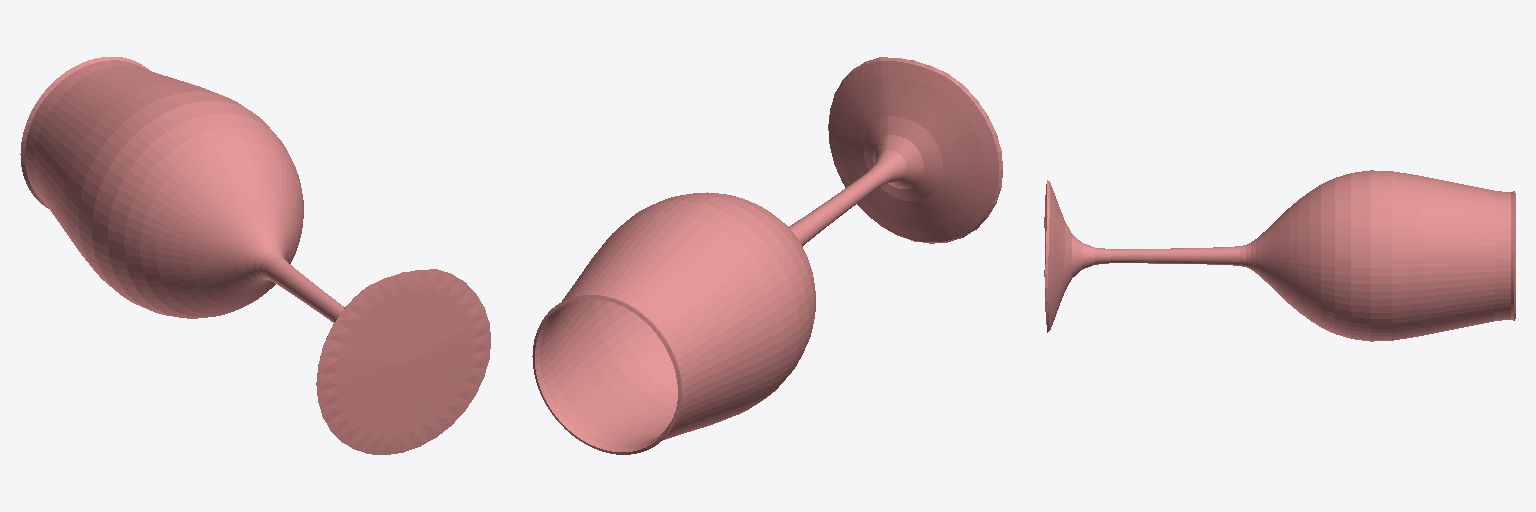
robot.urdf — model.urdf:
<?xml version="0.0" ?>
<robot name="model.urdf">
  <link name="baseLink">
    <contact>
      <friction_anchor/>
      <lateral_friction value="0.3"/>
      <rolling_friction value="0.0"/>
      <contact_cfm value="0.0"/>
      <contact_erp value="1.0"/>
    </contact>
    <inertial>
       <origin rpy="0 0 0" xyz="0 0 0"/>
       <mass value="0.1"/>
       <inertia ixx="8e-05" ixy="0" ixz="0" iyy="0.0002" iyz="0" izz="0.0002"/>
    </inertial>
    <visual>
      <geometry>
        <mesh filename="textured.dae" scale="1 1 1"/>
      </geometry>
      <material name="red">
        <color rgba="0.9 0.6 0.6 1."/>
      </material>
    </visual>
    <collision>
      <geometry>
    	 	<mesh filename="textured.dae" scale="1 1 1"/>
      </geometry>
    </collision>
  </link>
</robot>

--- Render facts (derived) ---
The picture shows the robot from 3 angles, left to right: view 1: azimuth 30°, elevation 25°; view 2: azimuth 150°, elevation 25°; view 3: azimuth 270°, elevation 25°; orthographic projection.
Robot: model.urdf — 1 links, 0 joints (none); root link baseLink; default pose: all joints at 0.
Links seen in each view (by area): view 1: baseLink; view 2: baseLink; view 3: baseLink.
Link boxes in pixels (box(x1,y1,x2,y2)): baseLink: box(20, 57, 490, 454); baseLink: box(532, 57, 1002, 454); baseLink: box(1044, 170, 1515, 341).
Bounding box of the posed robot: 0.059 × 0.1621 × 0.059 m (x, y, z).
Meshes: 1 distinct files referenced, 1 mesh visuals loaded (1 Collada DAE).